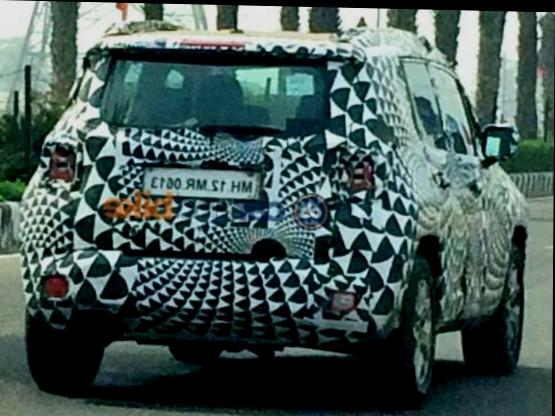License_Plate: (145, 169, 264, 195)
